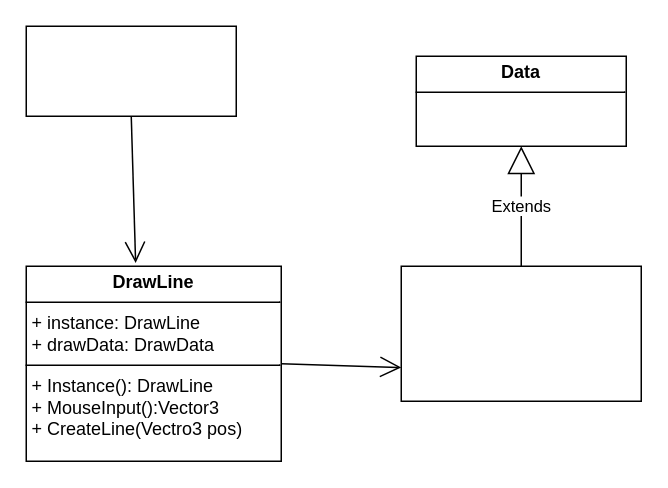
Some shapes in this 668 by 488 pixel diagram are drawn without their labels. Here are the shapes that lost their labels. From the top down, the box of each, then its label:
(25, 25, 236, 116): DataManager
(400, 265, 641, 401): DrawData + points: List<Vector3>
